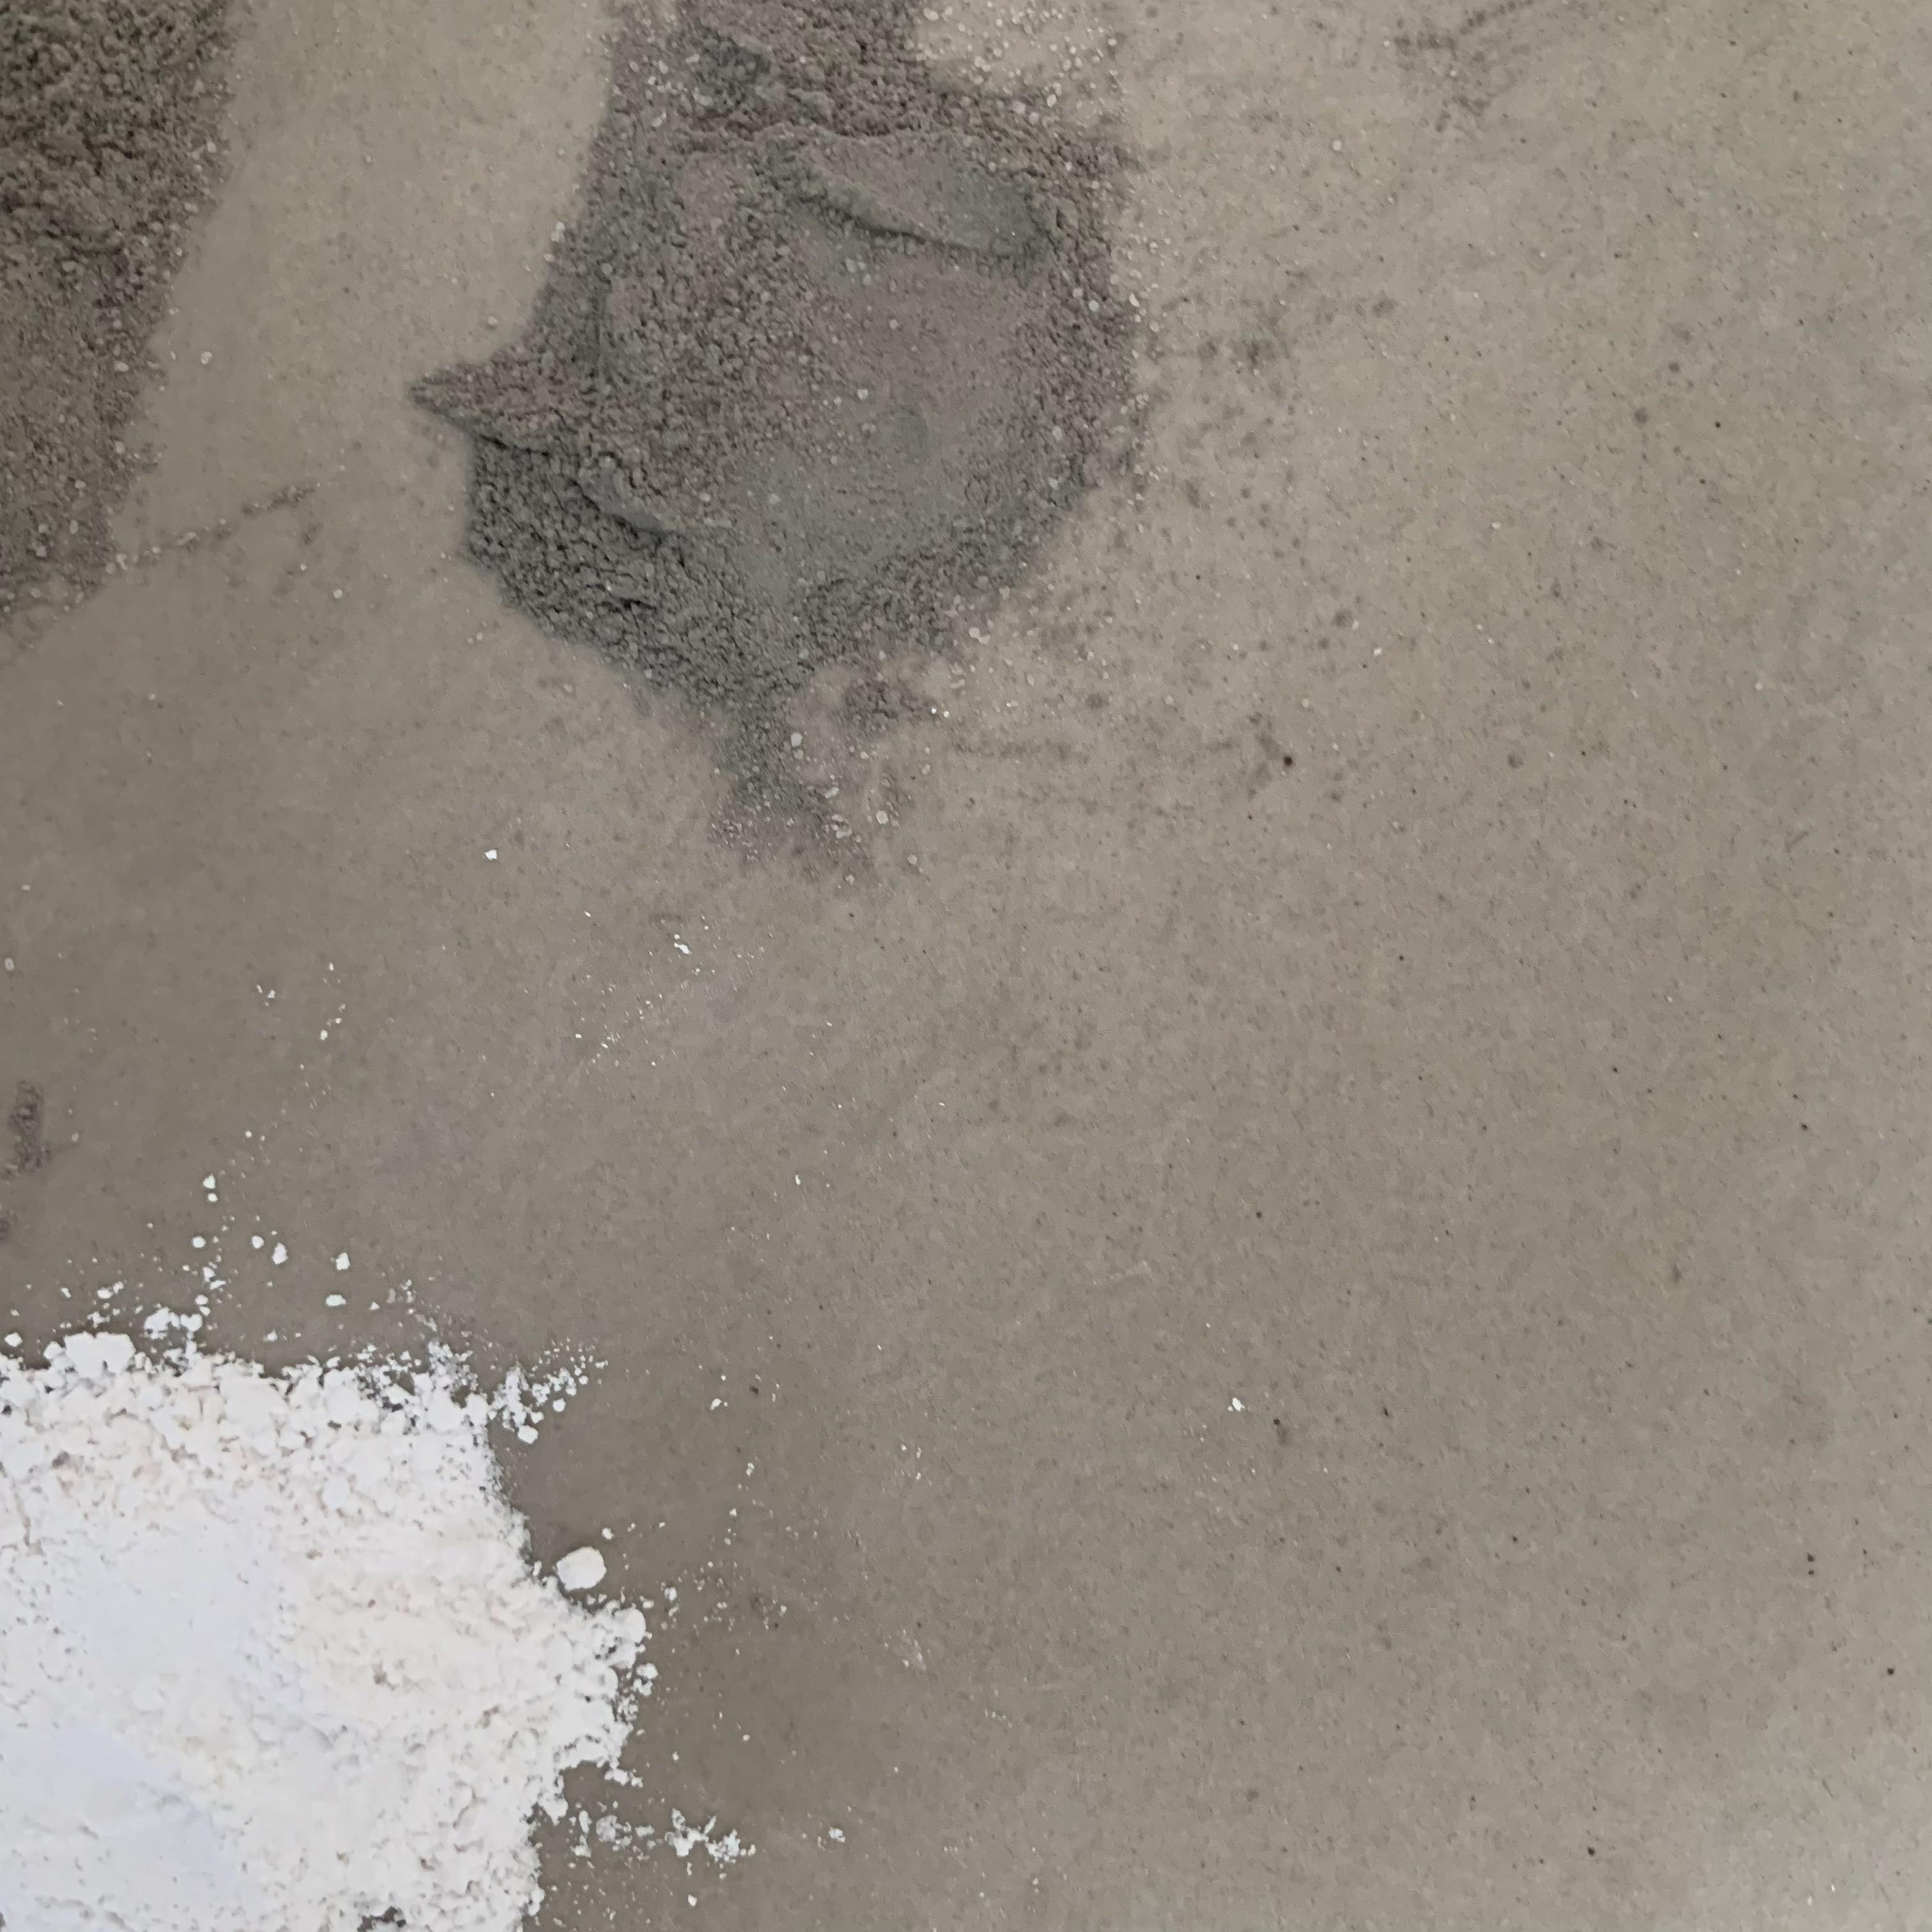ash pile: (409, 5, 1316, 899), (2, 1224, 757, 1932), (0, 0, 232, 635)
